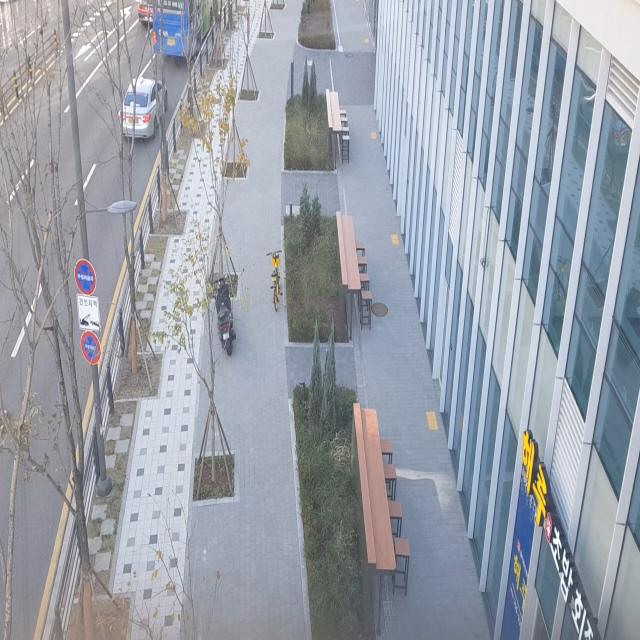Bus: (148, 0, 228, 67)
Car: (116, 68, 167, 147), (126, 0, 158, 23)
